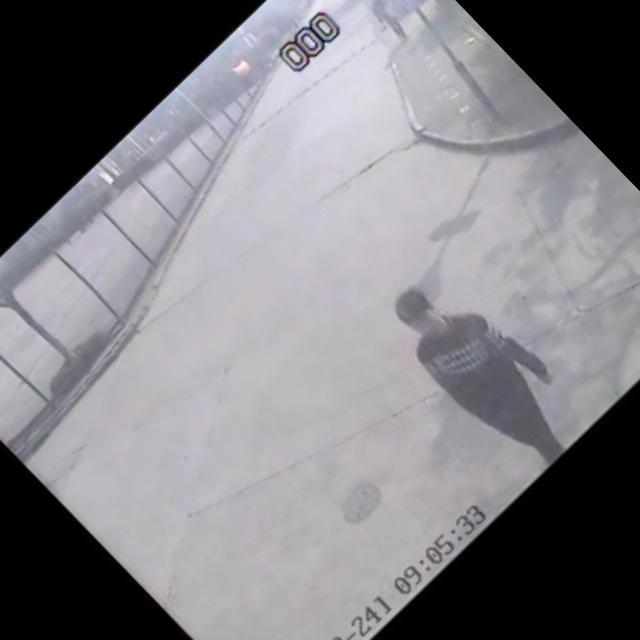person: (346, 234, 612, 502), (351, 0, 425, 51)
